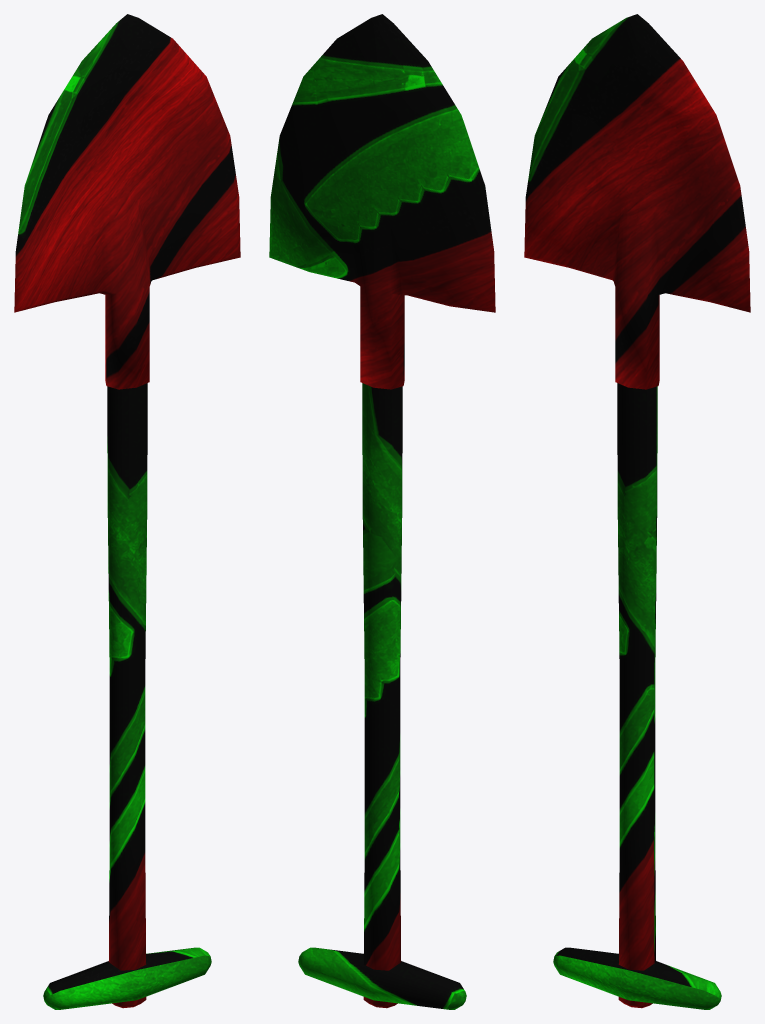
Rendered from Shovel01.fbx.
3 renders of one model, left to right at view 1: azimuth 30°, elevation 25°; view 2: azimuth 150°, elevation 25°; view 3: azimuth 330°, elevation 25°, orthographic.
Visible parts, largest first — view 1: Shovel01_LOD0; view 2: Shovel01_LOD0; view 3: Shovel01_LOD0.
Boxes of the visible parts, left/top/right/bottom form: Shovel01_LOD0: left=14, top=14, right=240, bottom=1009; Shovel01_LOD0: left=269, top=14, right=495, bottom=1009; Shovel01_LOD0: left=524, top=14, right=750, bottom=1009.
Size of what is drawn, in the model's own units: 0.2632 by 1.1 by 0.0473.
